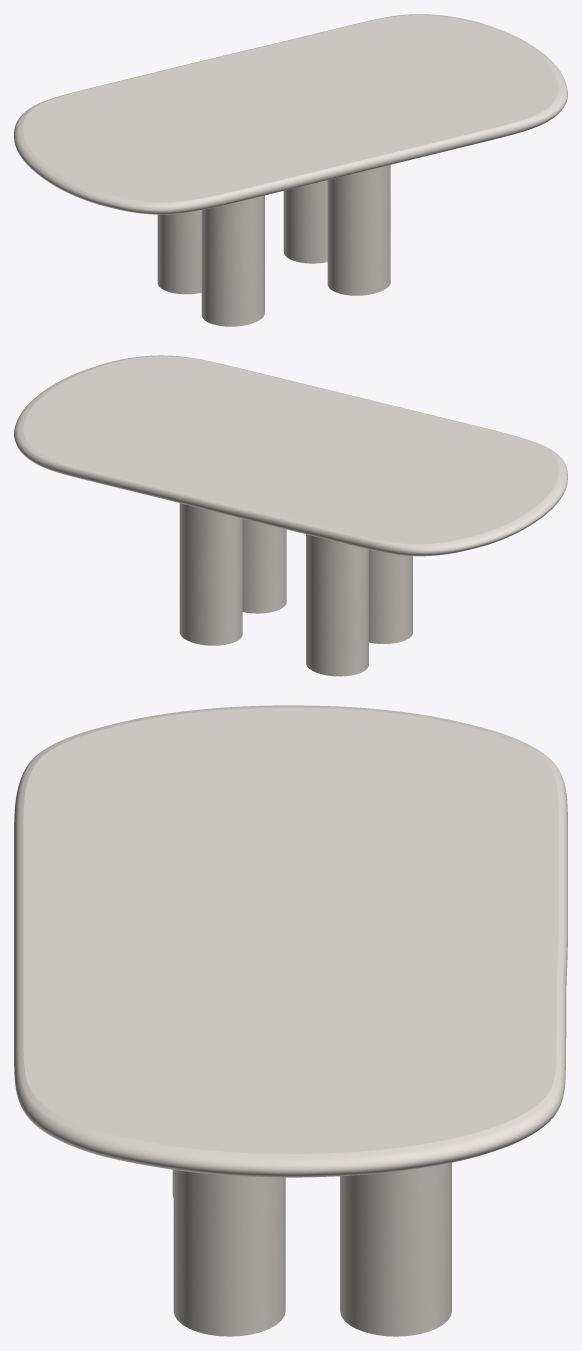
File: pearlwhite_oval_round_grove.glb
The picture shows the model from 3 angles, top to bottom: view 1: azimuth 30°, elevation 25°; view 2: azimuth 150°, elevation 25°; view 3: azimuth 270°, elevation 25°; orthographic projection. The views are drawn at different scales.
Parts seen in each view (by area): view 1: round_oval, grove; view 2: round_oval, grove; view 3: round_oval, grove.
Part boxes in pixels (x1,y1,x2,y2): round_oval: [14, 14, 567, 214]; grove: [157, 165, 390, 326]; round_oval: [14, 355, 567, 556]; grove: [179, 503, 412, 676]; round_oval: [14, 705, 567, 1177]; grove: [172, 1162, 451, 1336].
Bounding box in the file's own units: 7.5 × 2.51 × 3.8.
1 material, 1 textured.
